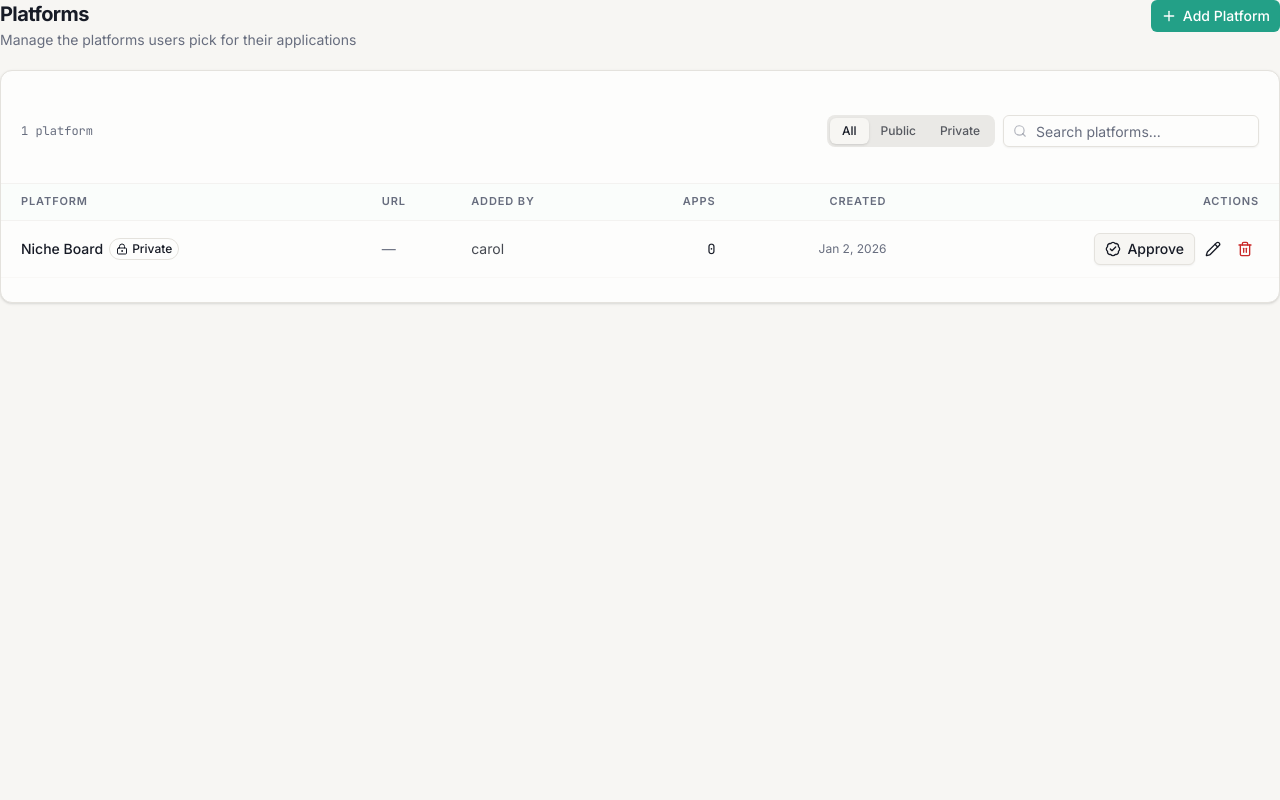
PlatformsPage › keeps the delete dialog open and shows the server detail on a 409
The width and height of the screenshot is (1280, 800).
Expected: the text "Niche Board" is shown, [21,239,103,259]
Click the button named "Delete Niche Board".
click(1245, 249)  # box [1231,235,1259,263]
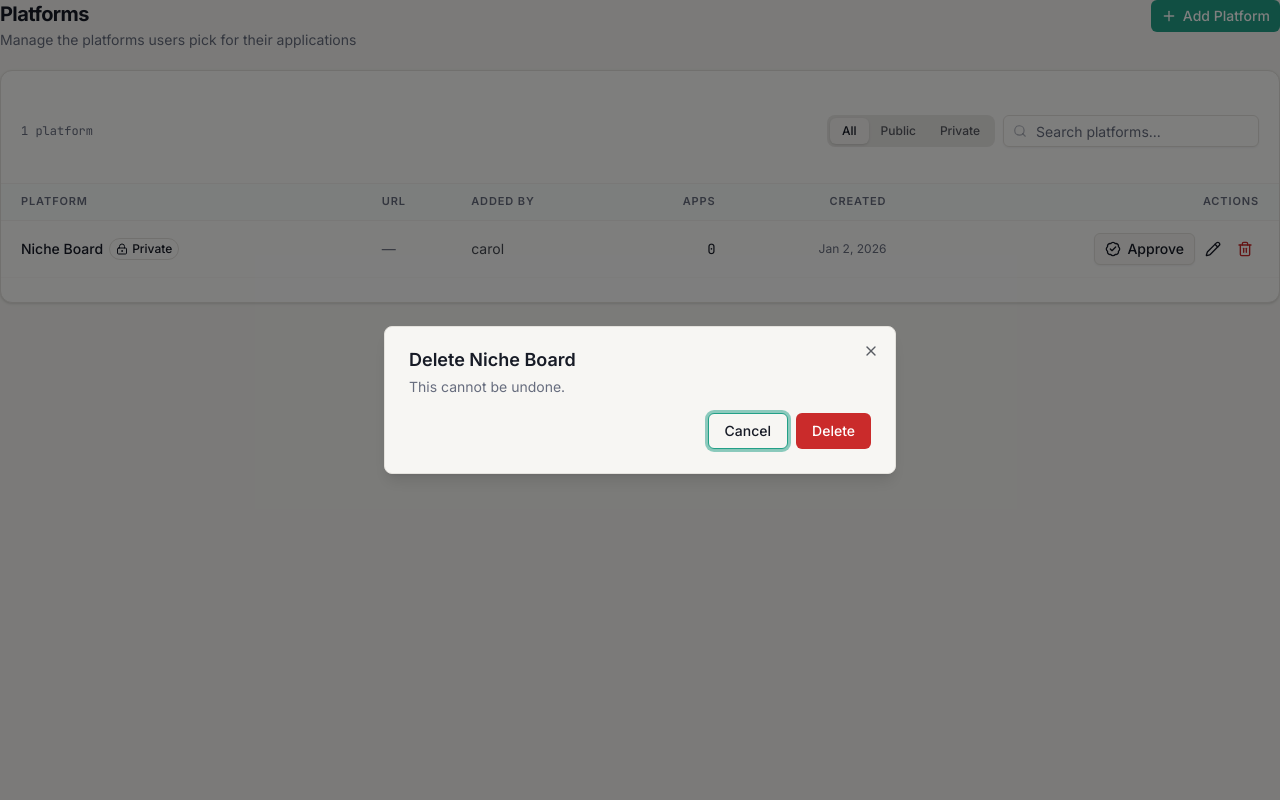
Click the button "Delete".
click(834, 431)  # box [796,413,871,449]
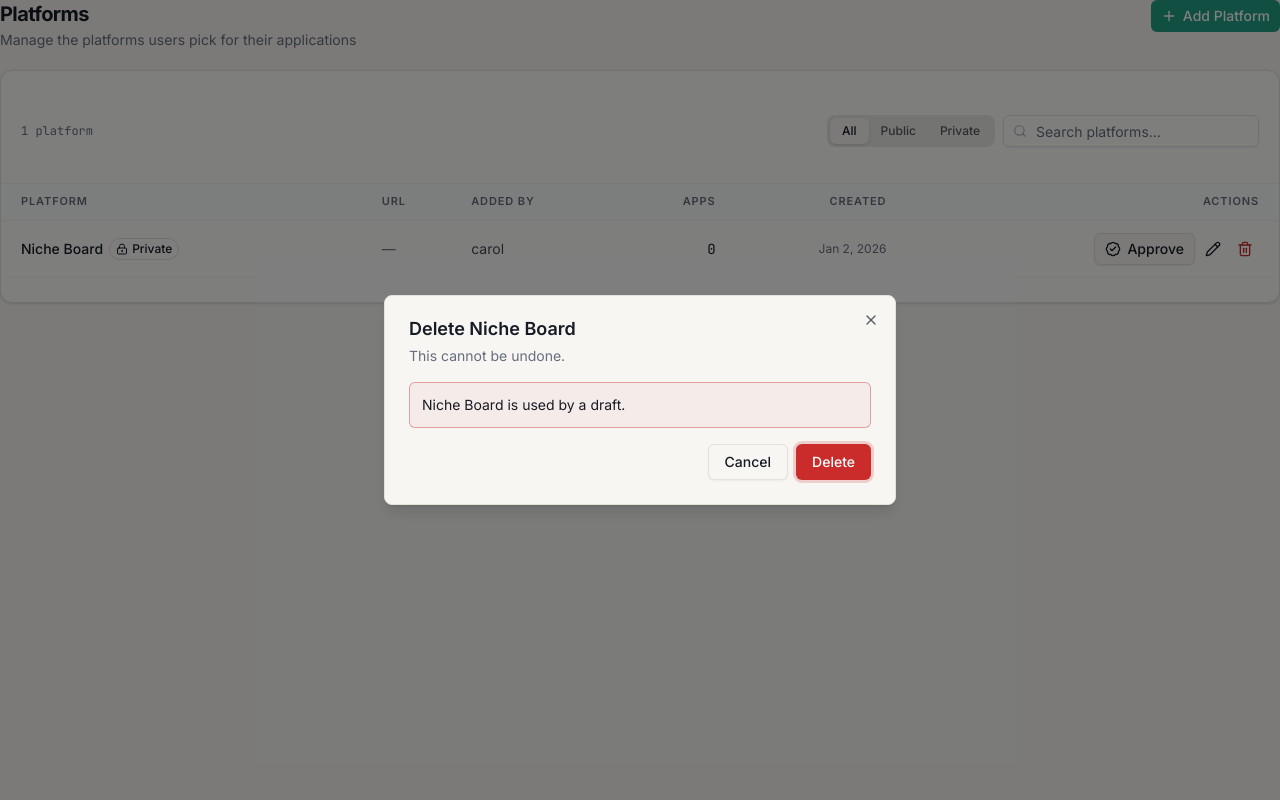
Now the dialog is shown, box [384,295,896,505]
Now the text "Niche Board is used by a draft." is shown, box [409,382,871,428]
